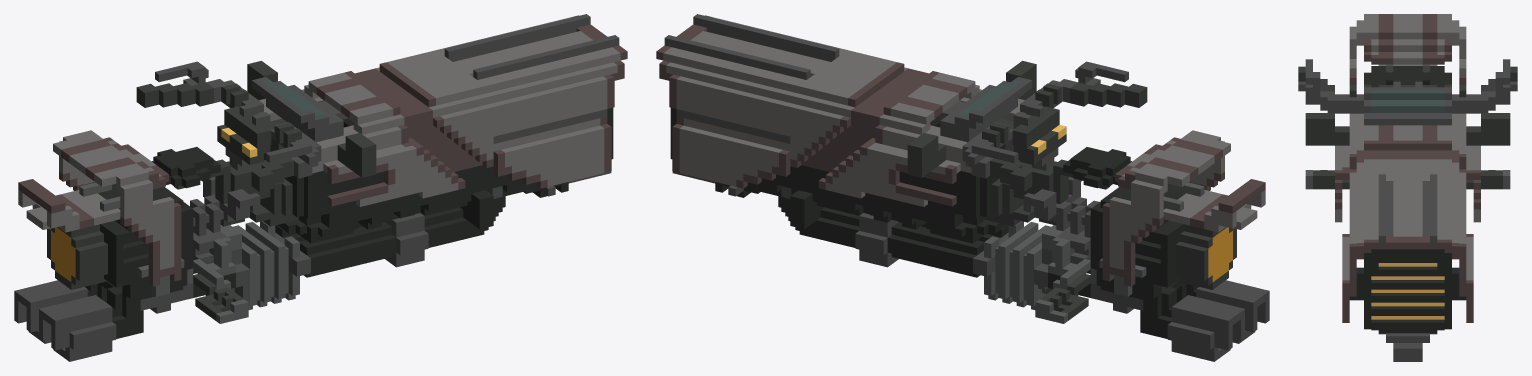
The model's file is Tracer.glb.
3 renders of one model, left to right at view 1: azimuth 30°, elevation 25°; view 2: azimuth 150°, elevation 25°; view 3: azimuth 270°, elevation 25°, orthographic. The views are drawn at different scales.
Parts seen in each view (by area): view 1: Tracer; view 2: Tracer; view 3: Tracer.
Part boxes in pixels (left/top/right/bottom): Tracer: left=14, top=14, right=627, bottom=361; Tracer: left=656, top=14, right=1269, bottom=361; Tracer: left=1298, top=14, right=1517, bottom=361.
Bounding box in the file's own units: 8 × 2.6 × 3.
1 material, 1 textured.
